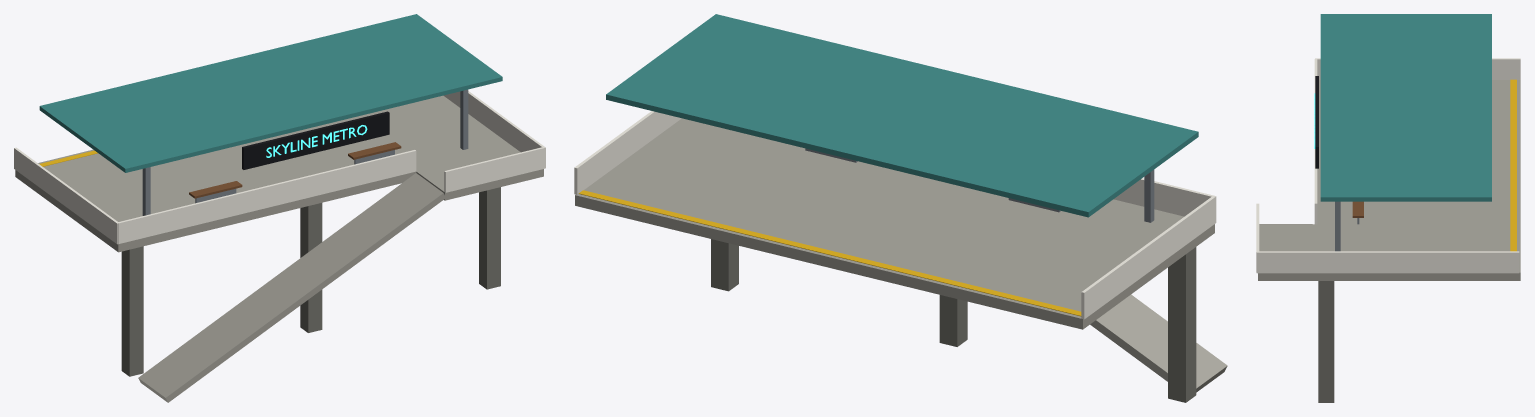
The model's file is metro_station.glb.
3 renders of one model, left to right at view 1: azimuth 30°, elevation 25°; view 2: azimuth 150°, elevation 25°; view 3: azimuth 270°, elevation 25°, orthographic. The views are drawn at different scales.
Parts seen in each view (by area): view 1: metro_station_Body, metro_station_SignBoard, metro_station_Sign; view 2: metro_station_Body; view 3: metro_station_Body, metro_station_SignBoard.
Boxes of the visible parts, left/top/right/bottom form: metro_station_Body: left=14, top=14, right=545, bottom=402; metro_station_SignBoard: left=242, top=111, right=389, bottom=169; metro_station_Sign: left=266, top=125, right=367, bottom=157; metro_station_Body: left=574, top=14, right=1227, bottom=402; metro_station_Body: left=1256, top=14, right=1520, bottom=402; metro_station_SignBoard: left=1315, top=76, right=1318, bottom=168.
Size of the model in its own units: 20.12 by 10.29 by 11.56.
